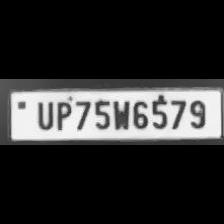5: (90, 97, 112, 130), (148, 95, 168, 129)
6: (129, 97, 149, 130)
7: (72, 97, 90, 131), (167, 96, 185, 130)
9: (185, 97, 209, 130)
P: (53, 98, 73, 132)
U: (33, 98, 55, 130)
W: (110, 97, 130, 131)
